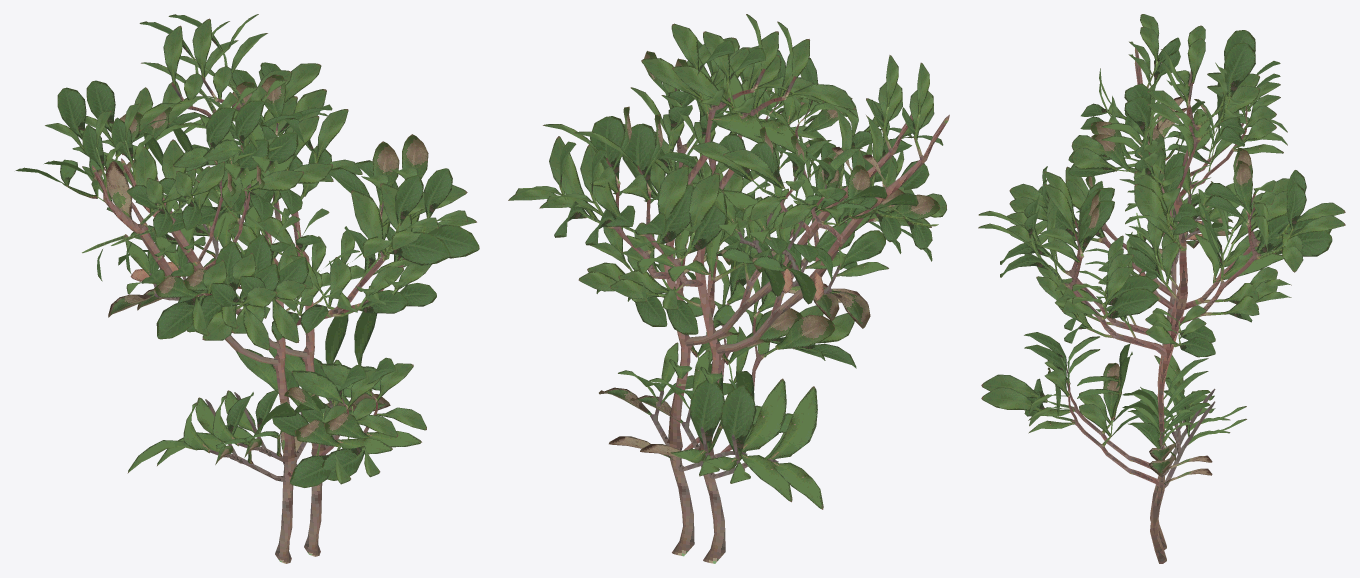
The model's file is natural-leafy-shrub-quiet.glb.
3 renders of one model, left to right at view 1: azimuth 30°, elevation 25°; view 2: azimuth 150°, elevation 25°; view 3: azimuth 270°, elevation 25°, orthographic. The views are drawn at different scales.
Parts seen in each view (by area): view 1: natural-leafy-shrub-quiet runtime mesh; view 2: natural-leafy-shrub-quiet runtime mesh; view 3: natural-leafy-shrub-quiet runtime mesh.
Part boxes in pixels (<box>): natural-leafy-shrub-quiet runtime mesh: <box>15,14,479,563</box>; natural-leafy-shrub-quiet runtime mesh: <box>508,14,949,563</box>; natural-leafy-shrub-quiet runtime mesh: <box>978,14,1345,563</box>.
Size of the model in its own units: 0.651 by 0.9 by 0.6151.
1 material, 1 textured.
